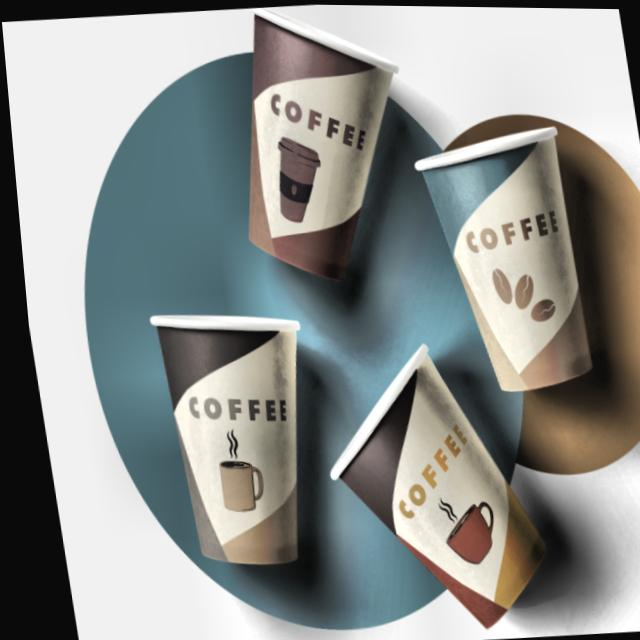Cup: (298, 322, 552, 640), (207, 2, 429, 309), (401, 105, 615, 414), (129, 293, 335, 591)
